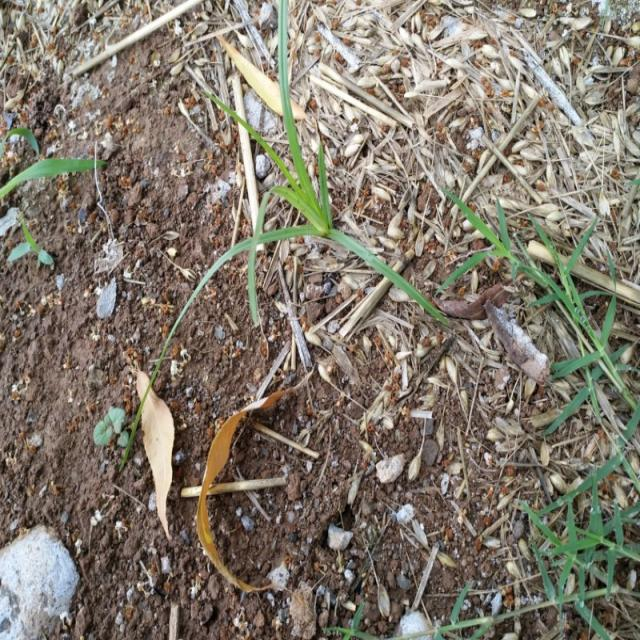sedge: (148, 41, 449, 330)
